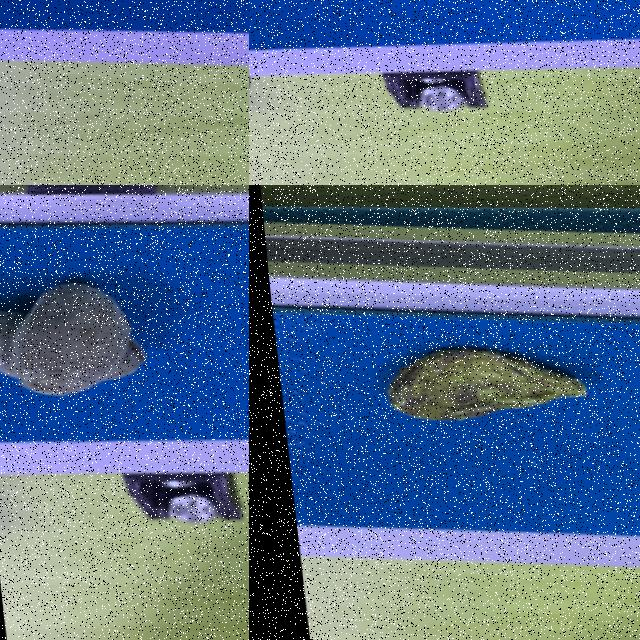Agglomerated_cocoabeans: (0, 232, 234, 427)
Flat_cocoabeans: (315, 303, 639, 450)
